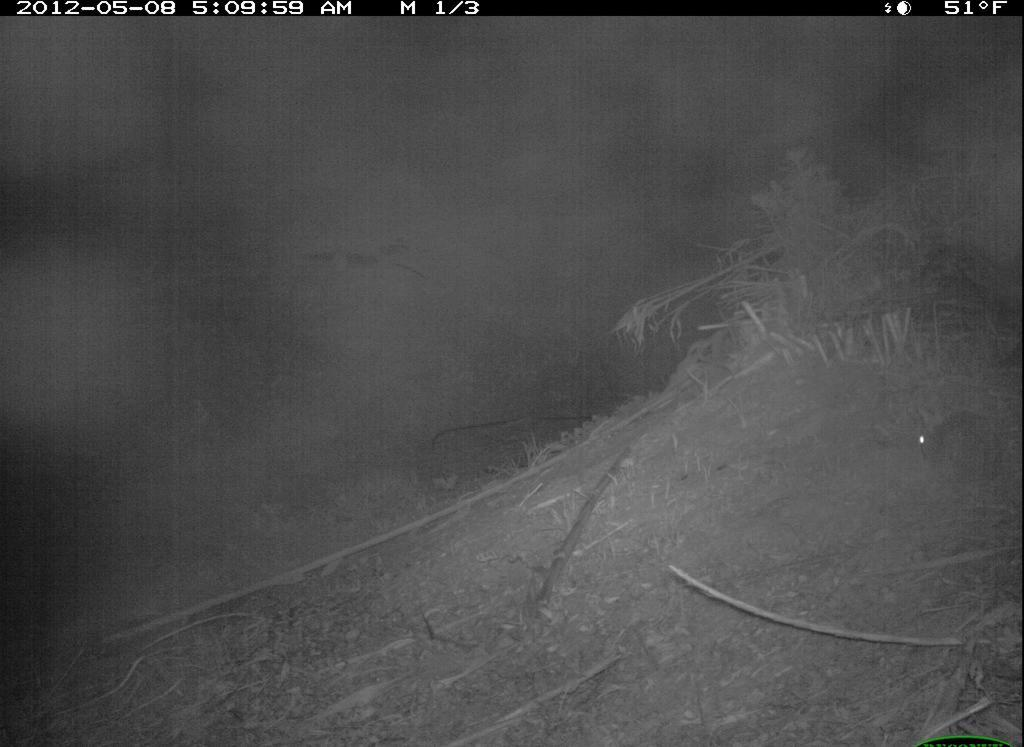rabbit: (902, 396, 1012, 491)
